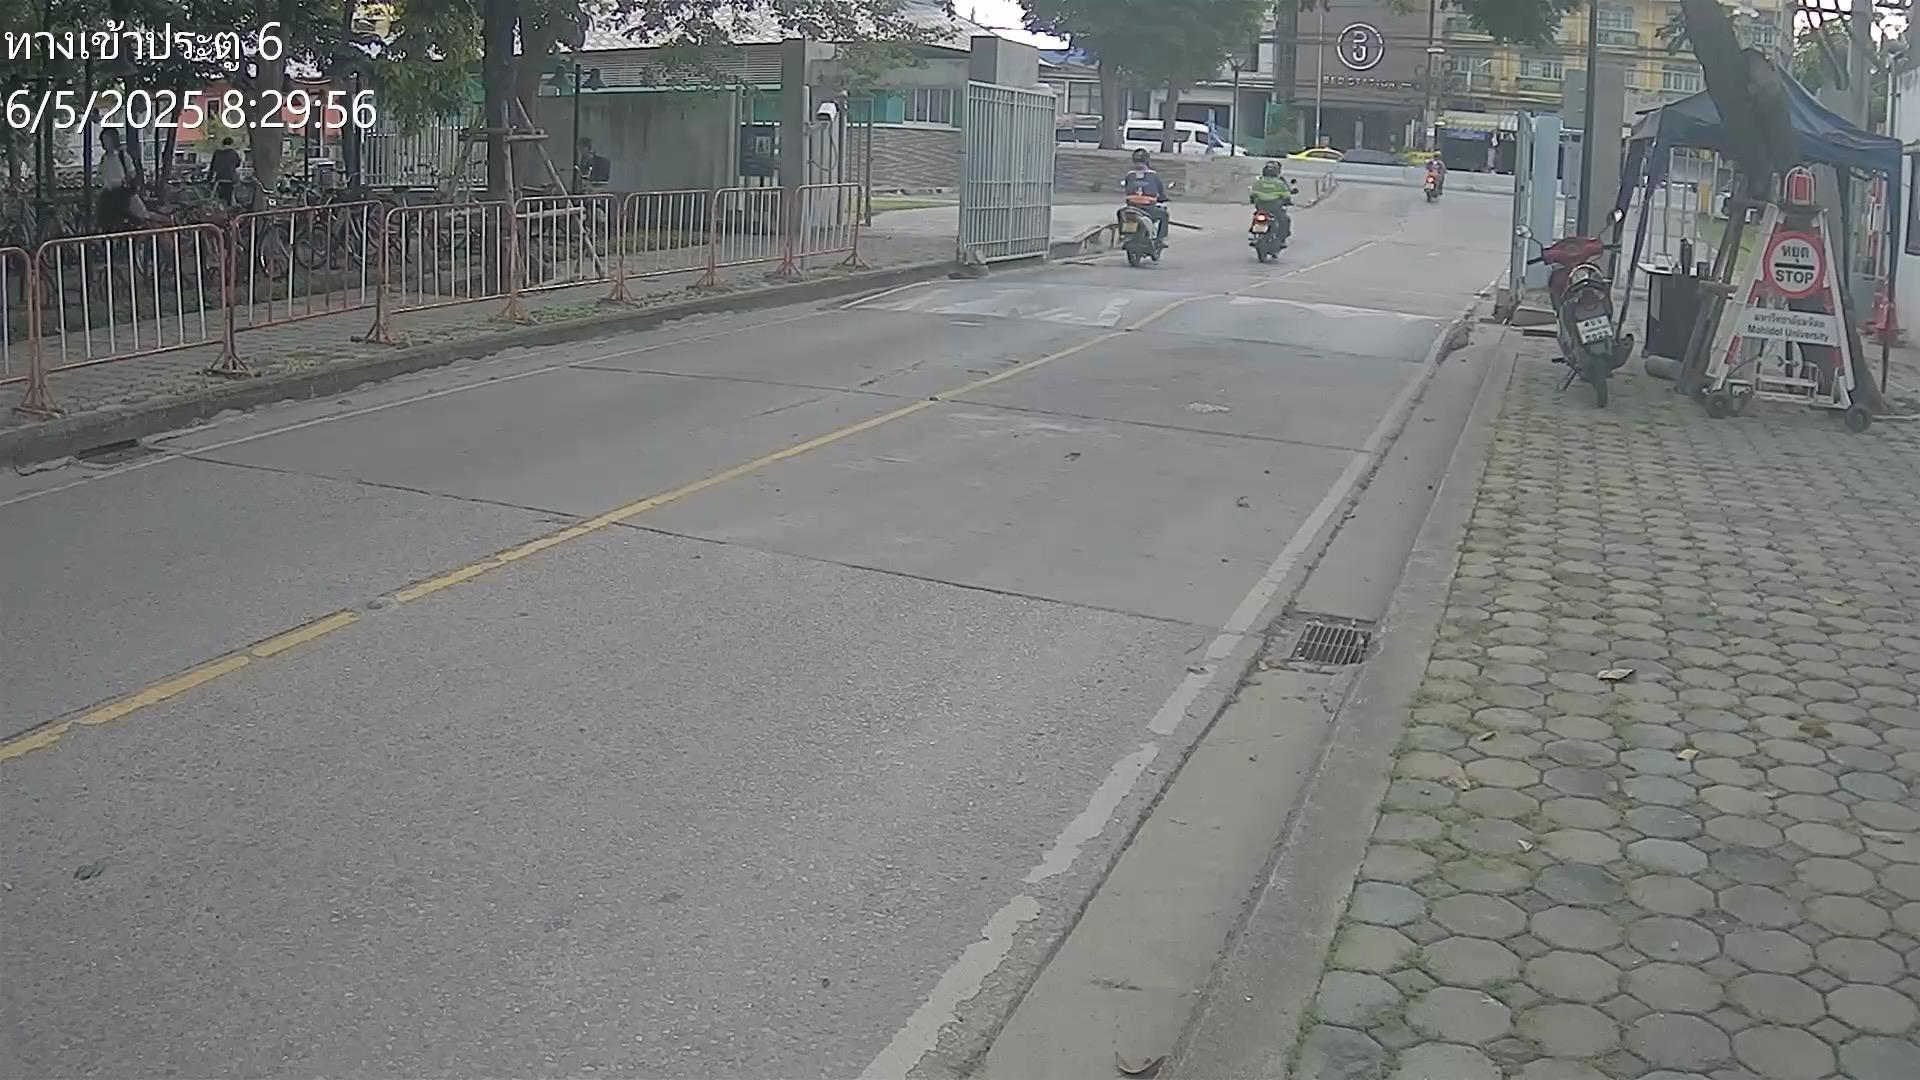With-Helmet: (1131, 146, 1153, 169), (1261, 160, 1282, 178)
